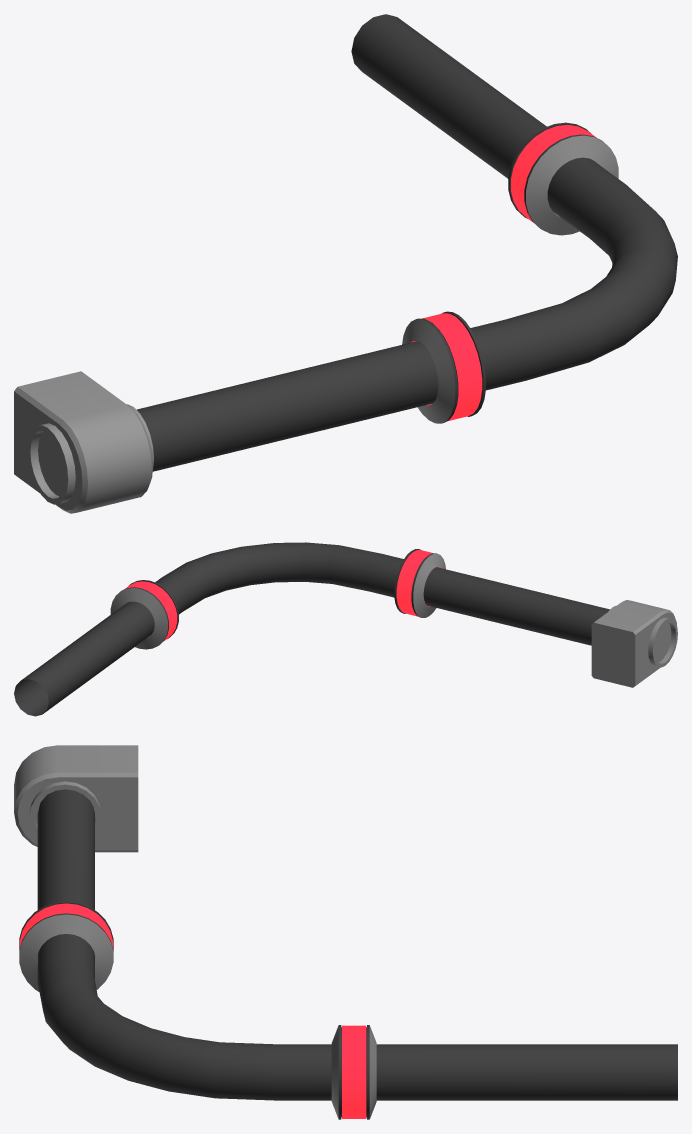
Rendered from Red_Cable_B_rounded_part.fbx.
The picture shows the model from 3 angles, top to bottom: view 1: azimuth 30°, elevation 25°; view 2: azimuth 150°, elevation 25°; view 3: azimuth 270°, elevation 25°; orthographic projection. The views are drawn at different scales.
Visible parts, largest first — view 1: Red_Cable_B_rounded_part.001; view 2: Red_Cable_B_rounded_part.001; view 3: Red_Cable_B_rounded_part.001.
Part boxes in pixels (bbox=[...]): Red_Cable_B_rounded_part.001: bbox=[14, 14, 677, 513]; Red_Cable_B_rounded_part.001: bbox=[14, 542, 677, 716]; Red_Cable_B_rounded_part.001: bbox=[14, 745, 677, 1119].
Bounding box in the file's own units: 2.05 × 0.263 × 1.85.
